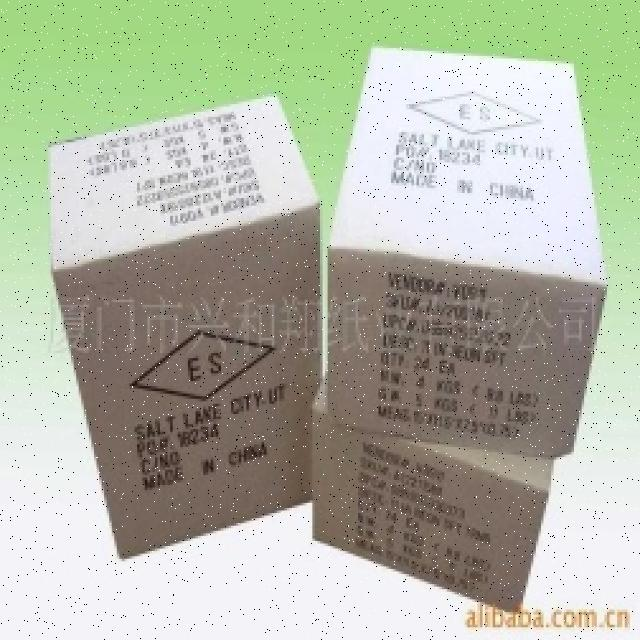box: (34, 135, 325, 541), (358, 32, 598, 450), (315, 372, 560, 622)
